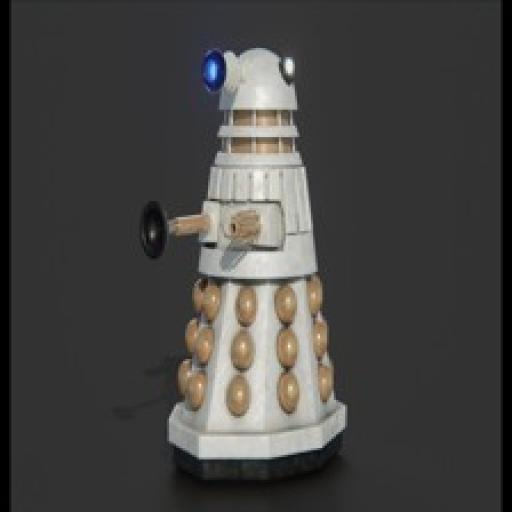dalek: (126, 42, 353, 484)
